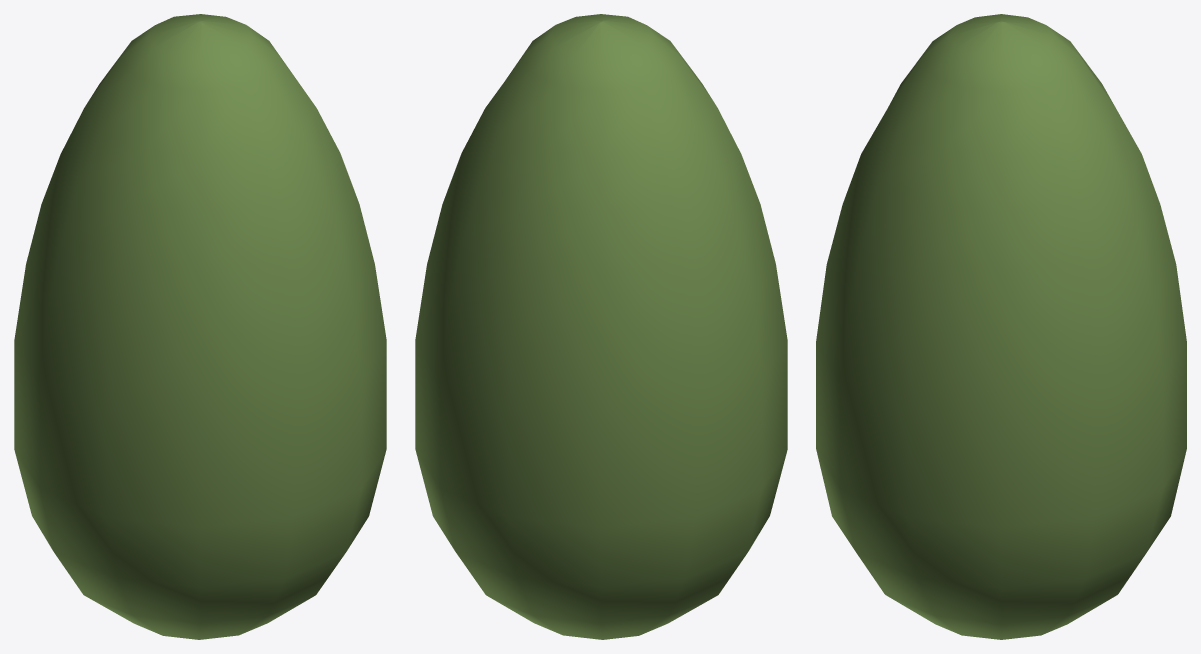
The model's file is Lily_of_the_Valley_Analytical_0.obj.
3 views of the same model, side by side, from view 1: azimuth 30°, elevation 25°; view 2: azimuth 150°, elevation 25°; view 3: azimuth 270°, elevation 25° (orthographic).
Parts seen in each view (by area): view 1: AnalyticalCrown; view 2: AnalyticalCrown; view 3: AnalyticalCrown.
Boxes of the visible parts, box(x1,y1,x2,y2) form: AnalyticalCrown: box(14, 14, 386, 639); AnalyticalCrown: box(415, 14, 787, 639); AnalyticalCrown: box(816, 14, 1186, 639).
Size of the model in its own units: 0.14 by 0.25 by 0.14.
